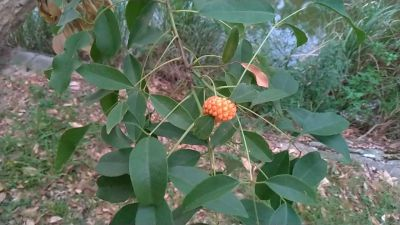eggs: (204, 92, 237, 121)
